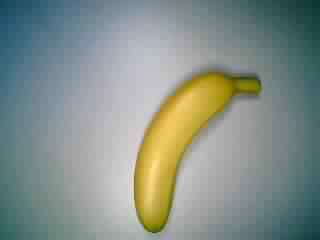banana: (130, 71, 267, 236)
